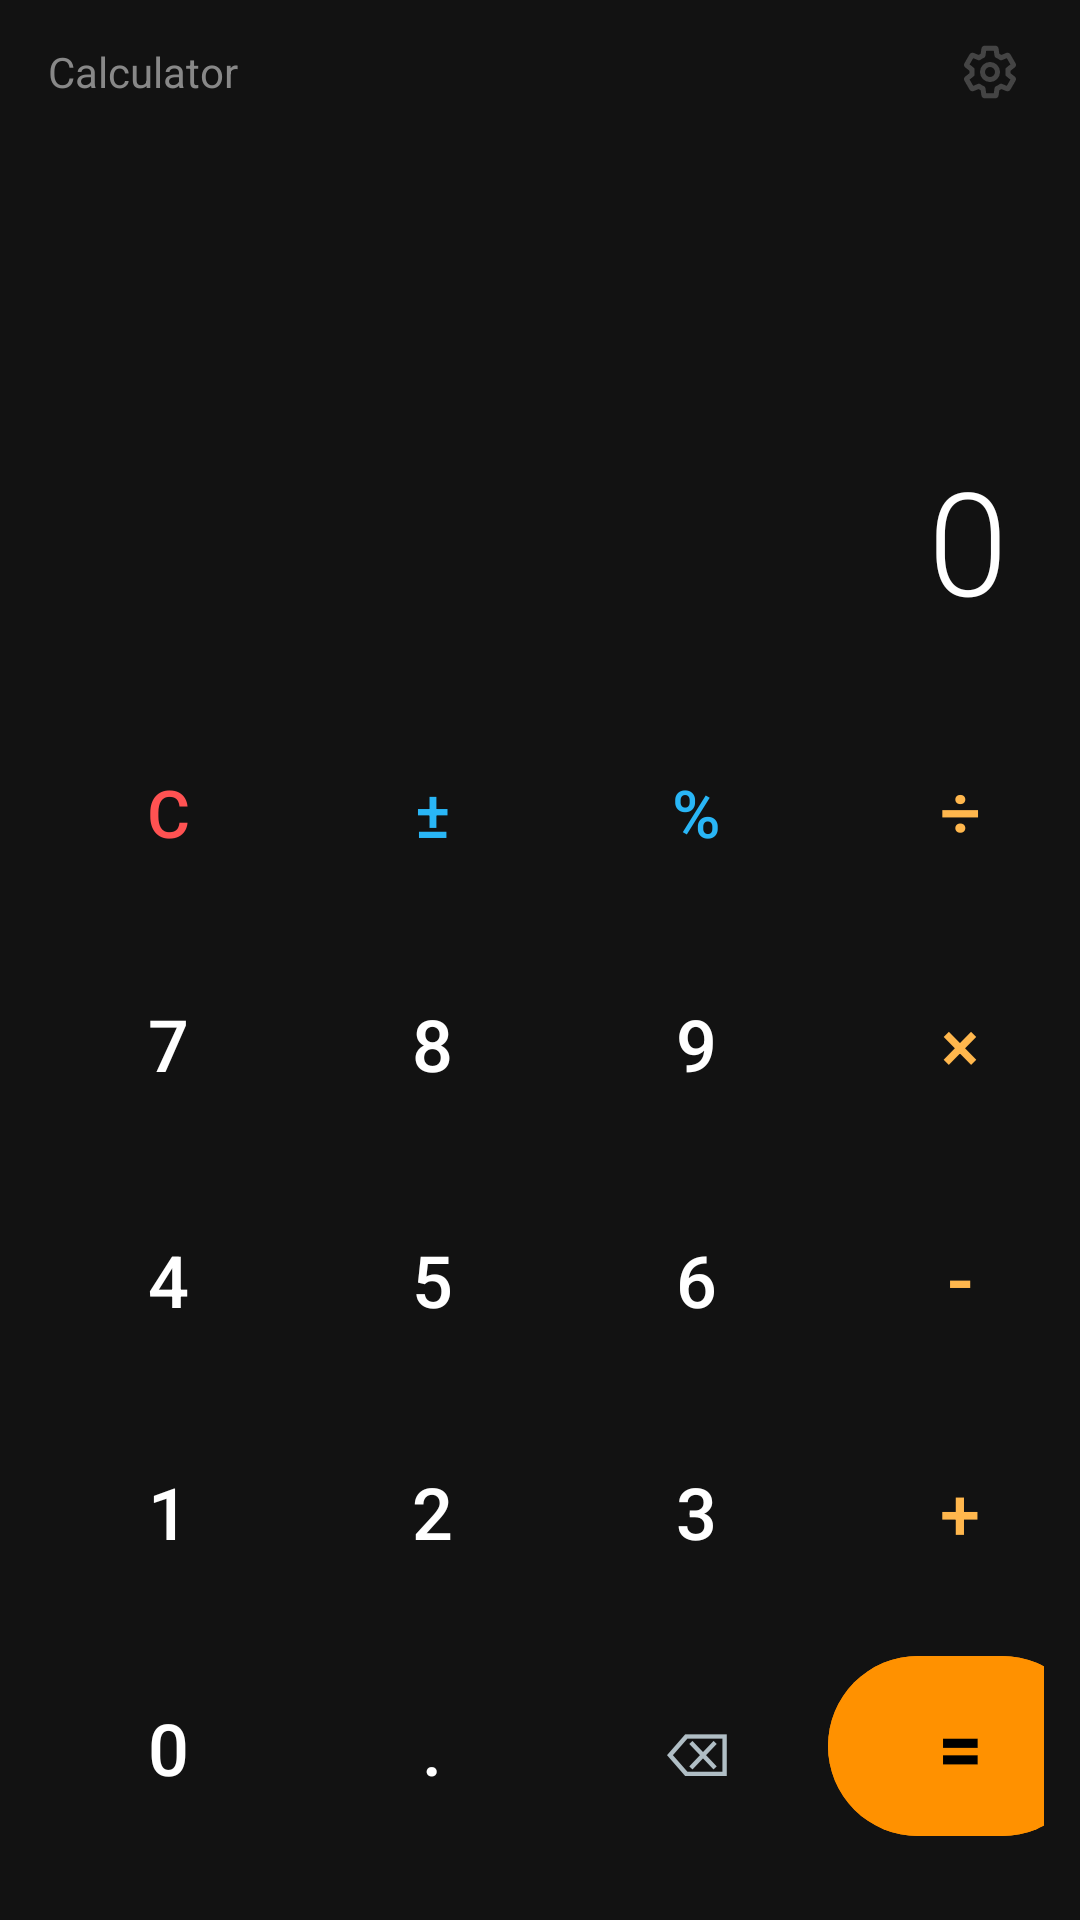

Where icons sit on this 1080x1920 app screen, as box(x1, y1, x2, y2):
Settings: box(964, 46, 1016, 98)
